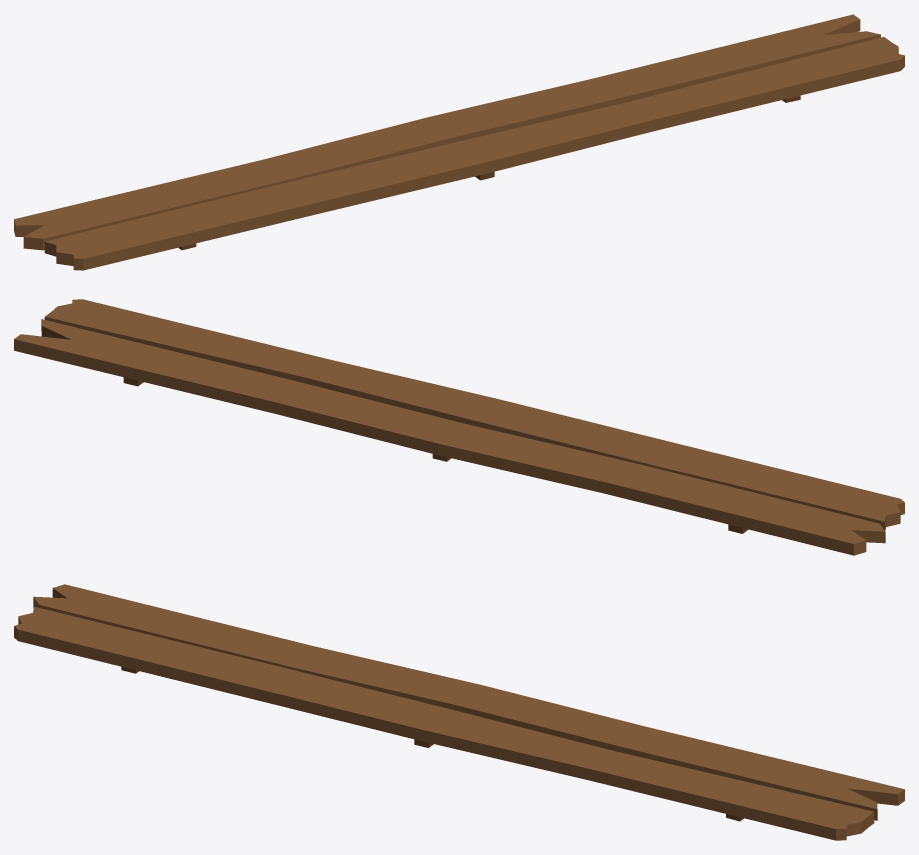
File: WoodenPlank_05.fbx
The picture shows the model from 3 angles, top to bottom: view 1: azimuth 30°, elevation 25°; view 2: azimuth 150°, elevation 25°; view 3: azimuth 330°, elevation 25°; orthographic projection.
Visible parts, largest first — view 1: WoodenPlank_05; view 2: WoodenPlank_05; view 3: WoodenPlank_05.
Boxes of the visible parts, left/top/right/bottom form: WoodenPlank_05: left=14, top=14, right=904, bottom=270; WoodenPlank_05: left=14, top=299, right=904, bottom=555; WoodenPlank_05: left=14, top=584, right=904, bottom=840.
Bounding box in the file's own units: 395 × 7.91 × 48.76.
